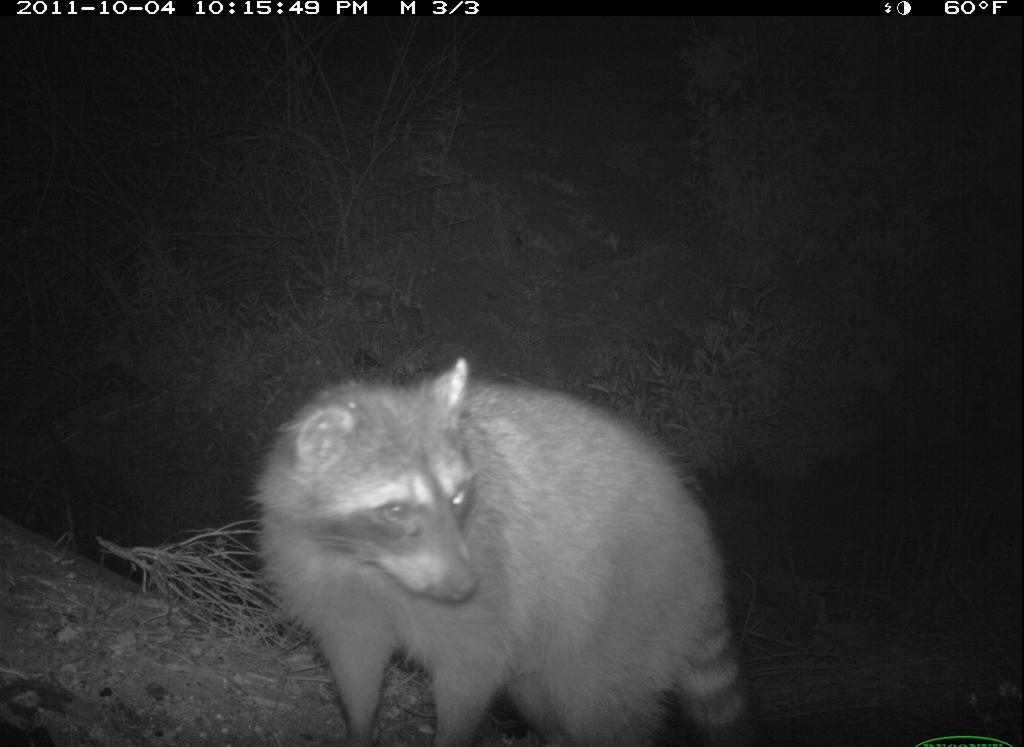raccoon: (254, 354, 757, 747)
